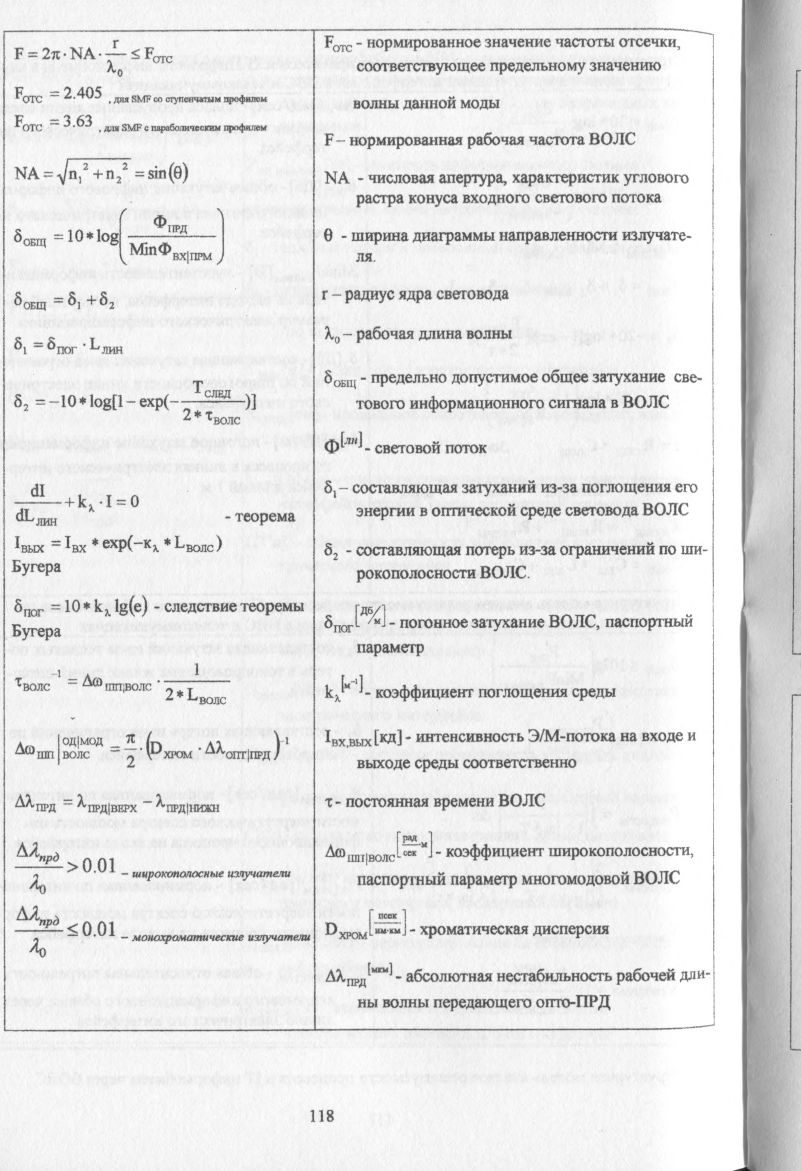F: (10, 44, 26, 61)
L.волс: (174, 530, 217, 555), (187, 685, 230, 708)
L.лин: (86, 331, 127, 359)
NA: (12, 162, 43, 185), (68, 41, 94, 64)
T.след: (190, 378, 235, 400)
group: (7, 203, 227, 269), (9, 377, 264, 432), (6, 661, 234, 711)
r: (109, 37, 119, 50)
symbol: (18, 729, 107, 760), (159, 787, 222, 822), (75, 790, 144, 818), (205, 733, 268, 761), (9, 791, 58, 815), (150, 734, 189, 760), (10, 533, 46, 557), (10, 594, 47, 615), (48, 332, 76, 359), (60, 529, 89, 555), (61, 288, 87, 310), (92, 594, 111, 620), (10, 332, 28, 359), (103, 56, 124, 78), (97, 291, 117, 313), (103, 167, 124, 185), (142, 534, 160, 554), (169, 162, 185, 184), (67, 166, 84, 185)
Δω.шп.волс: (78, 667, 153, 694)
δ.2: (13, 391, 30, 417)
δ.общ: (8, 287, 48, 313), (10, 224, 48, 250)
τ.волс: (9, 669, 53, 695), (203, 406, 240, 432)
Ф.вх.прм: (156, 238, 213, 264)
Ф.прд: (146, 211, 199, 234)
